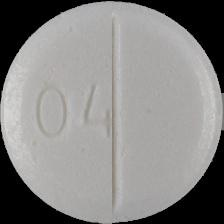60429-665: (0, 0, 224, 224)
